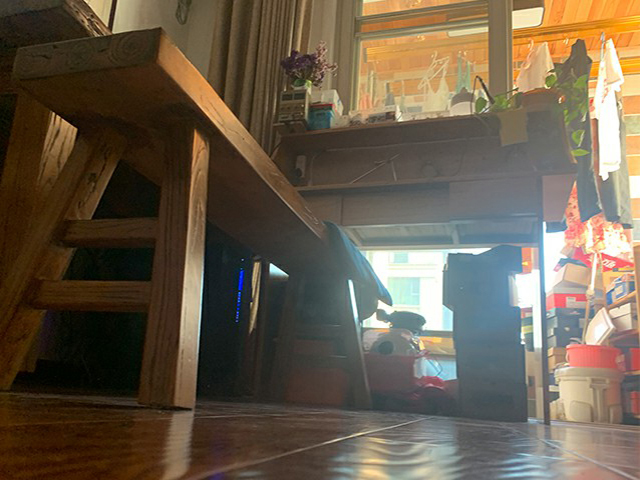stool: (1, 26, 379, 412)
table: (276, 101, 579, 426)
